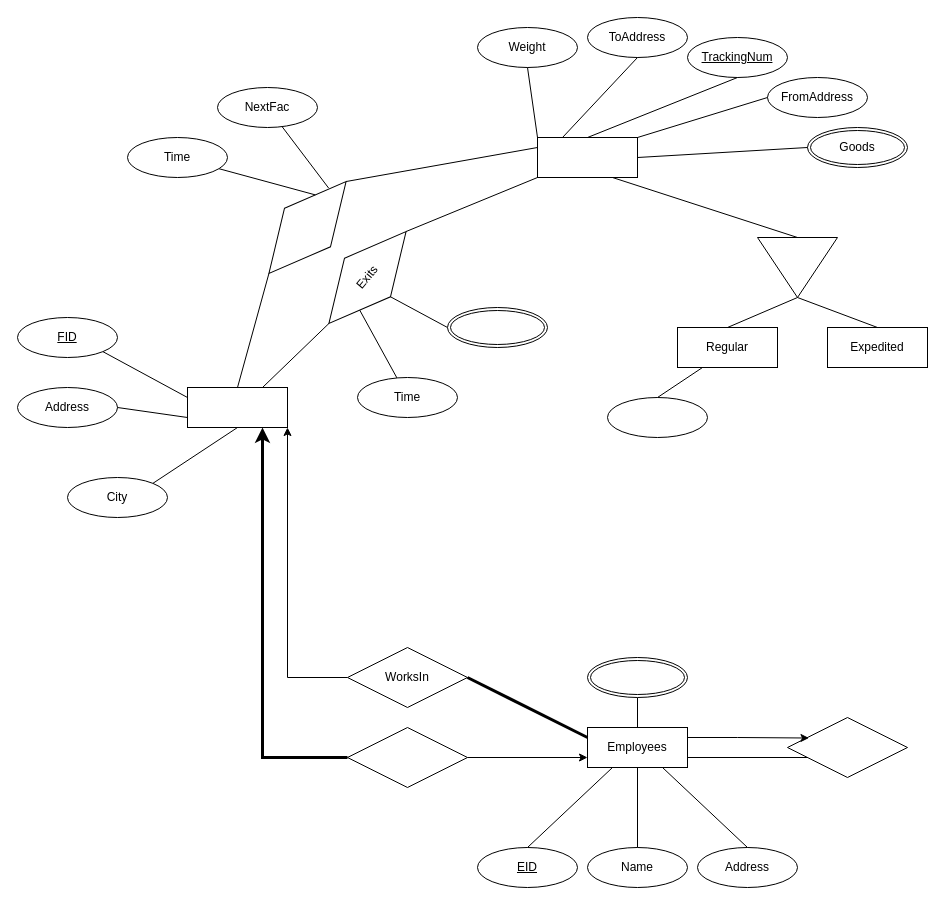
Image size: 945x905. Some labels were removed from this diagram. Here are the shapes that lost their labels. From the top down, the centre of each, then its label:
At [587,157]: "Parcel".
At [307,227]: "Enters".
At [797,267]: "IsA".
At [497,327]: "TransportType".
At [237,407]: "Facilities".
At [657,417]: "Barcode".
At [637,677]: "Roles".
At [407,757]: "Manages".
At [847,747]: "Supervises".
